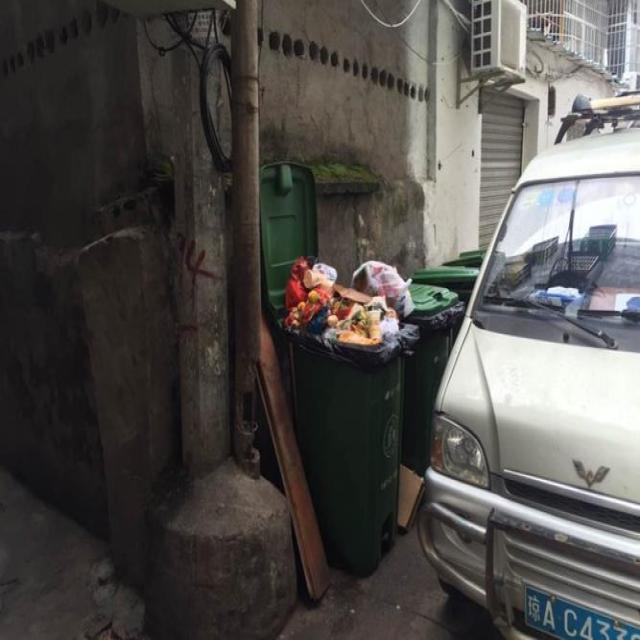overflow: (274, 257, 416, 576), (351, 260, 466, 476)
